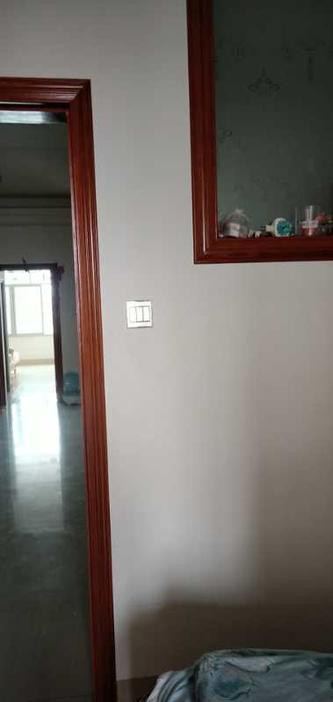switch: (124, 297, 158, 329)
